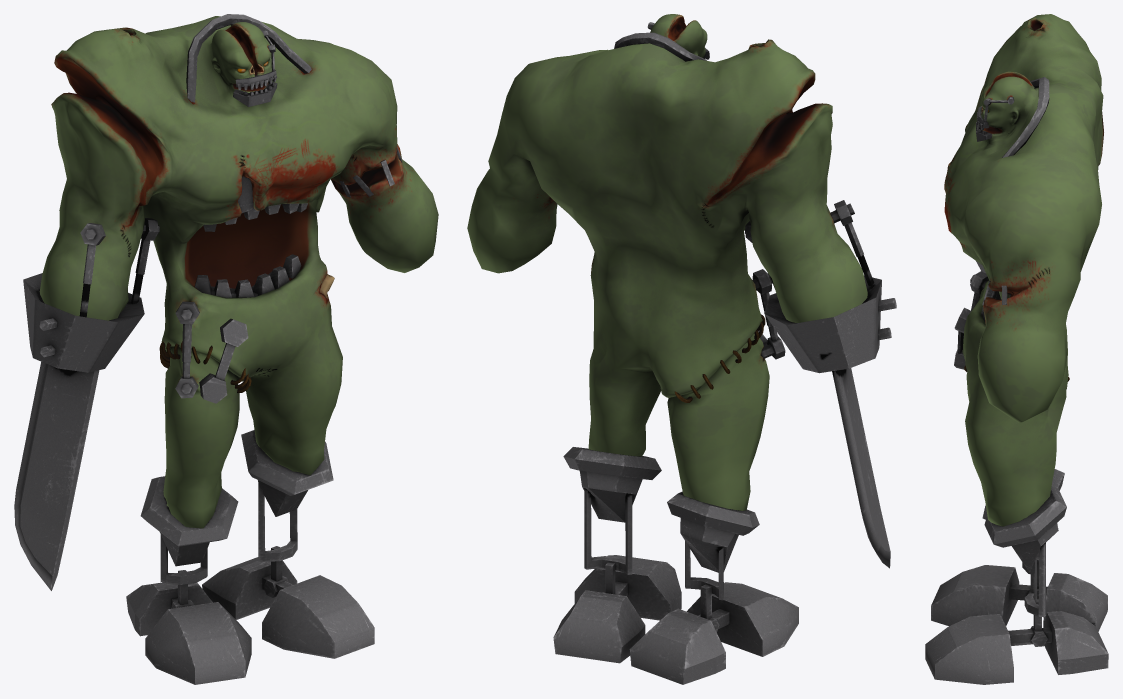
Rendered from Vergel_Gomez_Alejandro_A3D_CIA2D3D_09.fbx.
The picture shows the model from 3 angles, left to right: view 1: azimuth 30°, elevation 25°; view 2: azimuth 150°, elevation 25°; view 3: azimuth 270°, elevation 25°; orthographic projection. The views are drawn at different scales.
Visible parts, largest first — view 1: Piel, Metal; view 2: Piel, Metal; view 3: Piel, Metal.
Boxes of the visible parts, x1,y1,x2,y2 form: Piel: [39, 16, 438, 528]; Metal: [14, 14, 402, 684]; Piel: [467, 14, 867, 510]; Metal: [553, 22, 896, 684]; Piel: [944, 14, 1103, 526]; Metal: [925, 77, 1108, 684].
Bounding box in the file's own units: 638 × 940 × 272.
